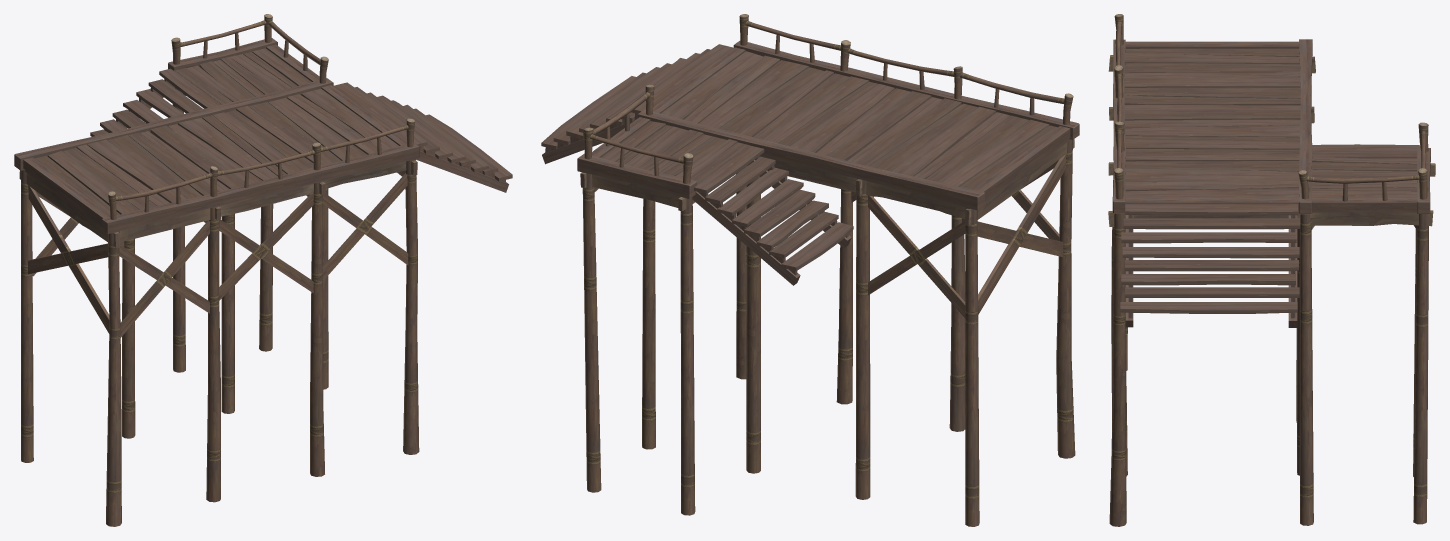
File: Area_MdBuild_Wharf03.fbx
The picture shows the model from 3 angles, left to right: view 1: azimuth 30°, elevation 25°; view 2: azimuth 150°, elevation 25°; view 3: azimuth 270°, elevation 25°; orthographic projection. The views are drawn at different scales.
Visible parts, largest first — view 1: Area_MdBuild_Wharf03, Area_MdBuild_Wharf03_02; view 2: Area_MdBuild_Wharf03, Area_MdBuild_Wharf03_02; view 3: Area_MdBuild_Wharf03.
Boxes of the visible parts, x1,y1,x2,y2 form: Area_MdBuild_Wharf03: (14, 14, 512, 526); Area_MdBuild_Wharf03_02: (28, 173, 408, 337); Area_MdBuild_Wharf03: (541, 14, 1079, 526); Area_MdBuild_Wharf03_02: (851, 154, 1065, 318); Area_MdBuild_Wharf03: (1108, 14, 1435, 526).
Bounding box in the file's own units: 148 × 115 × 96.09.
Materials: 2 (2 with a texture image).
